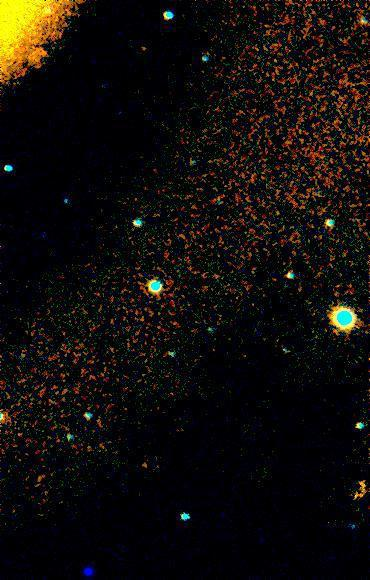star: (130, 34, 160, 64)
